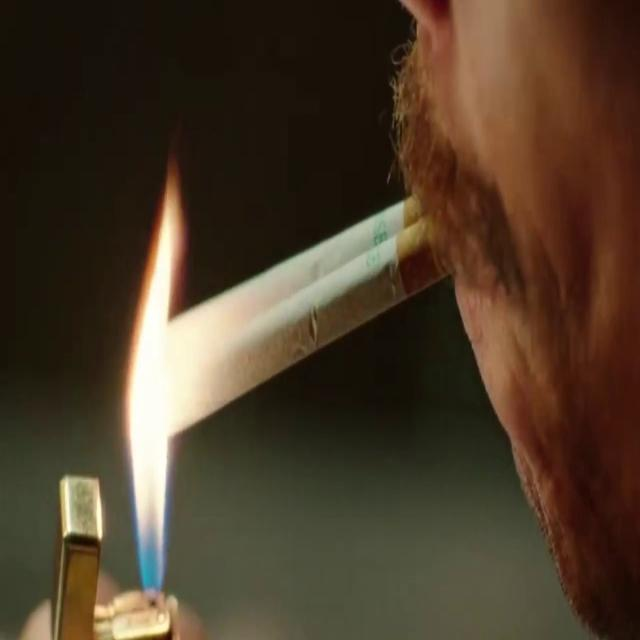Smooking: (92, 199, 525, 458)
